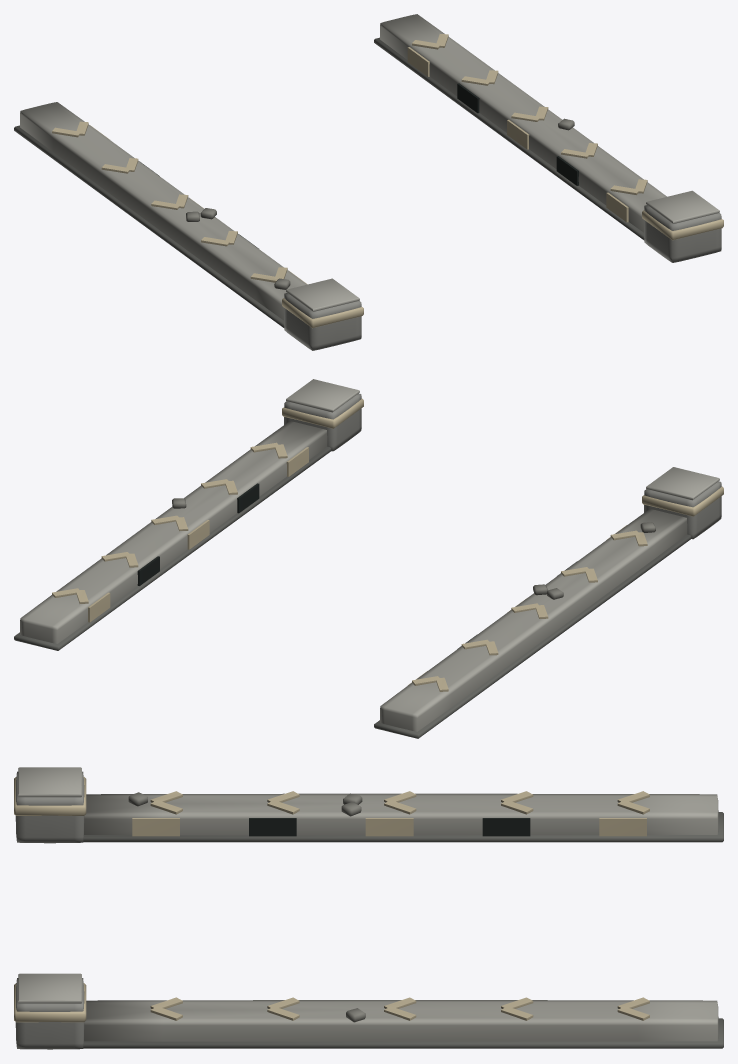
Rendered from takeoff_deck_a.glb.
The picture shows the model from 3 angles, top to bottom: view 1: azimuth 30°, elevation 25°; view 2: azimuth 150°, elevation 25°; view 3: azimuth 270°, elevation 25°; orthographic projection. The views are drawn at different scales.
Visible parts, largest first — view 1: Surface; view 2: Surface; view 3: Surface.
Part boxes in pixels (box(x1,y1,x2,y2)): Surface: box(14, 14, 723, 350); Surface: box(14, 379, 723, 738); Surface: box(14, 767, 723, 1049).
Size of the model in its own units: 10.56 by 1.03 by 13.38.
